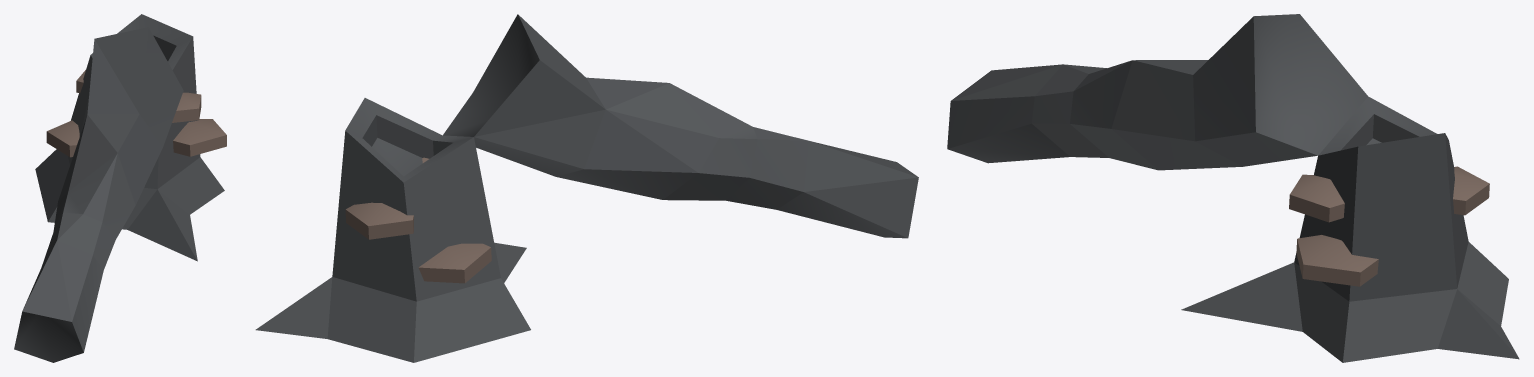
Rendered from fbStump4.fbx.
3 renders of one model, left to right at view 1: azimuth 30°, elevation 25°; view 2: azimuth 150°, elevation 25°; view 3: azimuth 270°, elevation 25°, orthographic. The views are drawn at different scales.
Visible parts, largest first — view 1: fbStump4; view 2: fbStump4; view 3: fbStump4.
Boxes of the visible parts, left/top/right/bottom form: fbStump4: left=14, top=14, right=226, bottom=362; fbStump4: left=255, top=14, right=918, bottom=362; fbStump4: left=947, top=14, right=1519, bottom=362.
Size of the model in its own units: 232 by 142 by 262.
